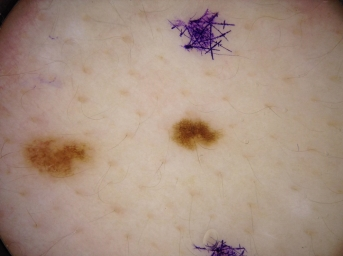melanoma: (25, 140, 87, 172), (171, 118, 219, 149)
